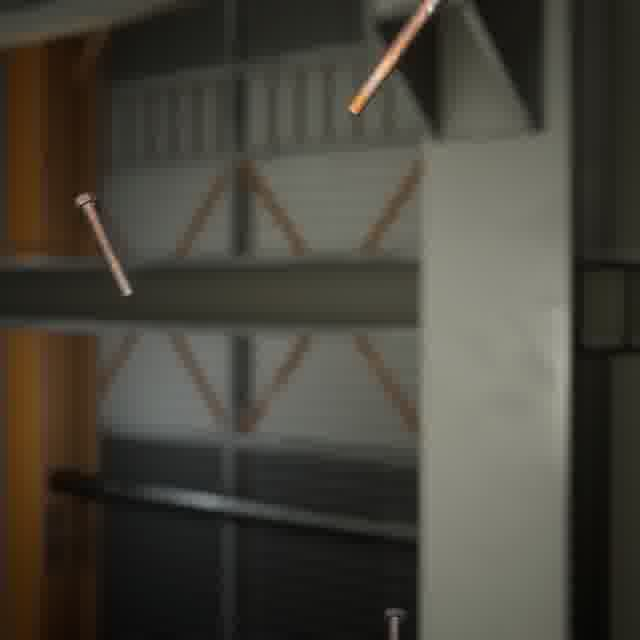bolt: (341, 0, 455, 121), (69, 188, 139, 303), (380, 603, 409, 640)
